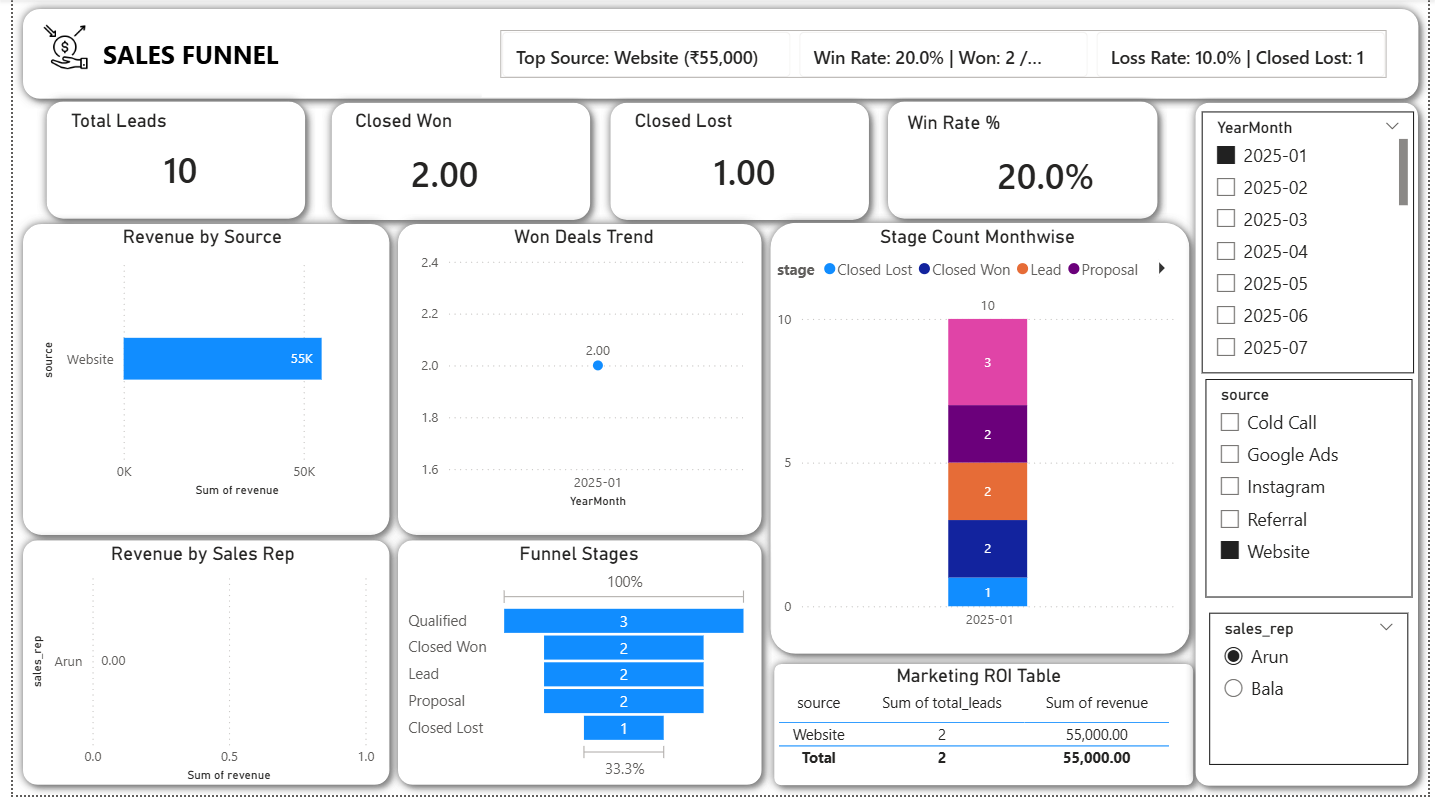

The dashboard page shown, as its layout file describes it:
{"tool":"powerbi","page":{"name":"Page 2","canvas":[1280,720],"ordinal":1},"visuals":[{"type":"shape","box":[0,0,1280.2,99.2],"z":0},{"type":"shape","box":[68.4,22.8,183.8,53.2],"z":1000},{"type":"image","box":[0,22.8,95,41.8],"z":2000},{"type":"shape","box":[21.3,84,251.8,124],"z":3000},{"type":"shape","box":[279.4,85,251.8,124],"z":4000},{"type":"shape","box":[531.1,85,251.8,124],"z":5000},{"type":"shape","box":[782.9,84,261.8,124],"z":6000},{"type":"textbox","title":"Total Leads","box":[42.6,99,105.2,25.1],"z":7000},{"type":"textbox","title":"Closed Won","box":[300.6,100,105.2,25.1],"z":8000},{"type":"textbox","title":"Closed Lost","box":[553.7,100,105.2,25.1],"z":9000},{"type":"textbox","title":"Win Rate %","box":[798,102,105.2,25.1],"z":10000},{"type":"cardVisual","fields":{"Data":["DimDate.Total Leads"]},"box":[95.6,112.7,111.5,82.1],"z":11000},{"type":"cardVisual","fields":{"Data":["DimDate.Closed Won"]},"box":[319.8,116,169.1,83.3],"z":12000},{"type":"cardVisual","fields":{"Data":["DimDate.Closed Lost"]},"box":[593.8,115,166,81],"z":13000},{"type":"cardVisual","fields":{"Data":["DimDate.Win Rate %"]},"box":[850.2,116.4,160.5,85.8],"z":14000},{"type":"shape","box":[0,195,349.5,299.4],"z":15000},{"type":"barChart","title":"Revenue by Source","fields":{"Category":["bi_suite vw_revenue_by_source.source"],"Y":["bi_suite vw_revenue_by_source.revenue"]},"box":[21.3,204.2,299.4,250.5],"z":16000},{"type":"shape","box":[339.5,195,347,299.4],"z":17000},{"type":"lineChart","title":"Won Deals Trend","fields":{"Category":["DimMonth.YearMonth"],"Y":["bi_suite vw_sales_conversion_summary.closed_won"]},"box":[364.5,204.2,304.4,260.6],"z":18000},{"type":"shape","box":[676.3,193.6,396.9,408],"z":19000},{"type":"columnChart","title":"Stage Count Monthwise","fields":{"Category":["DimMonth.YearMonth"],"Series":["bi_suite vw_sales_funnel_stage_counts.stage"],"Y":["bi_suite vw_sales_funnel_stage_counts.lead_count"]},"box":[686.5,204.2,372.1,374.6],"z":20000},{"type":"shape","box":[0,481,349.5,239.3],"z":21000},{"type":"barChart","title":"Revenue by Sales Rep","fields":{"Category":["bi_suite vw_sales_rep_performance.sales_rep"],"Y":["bi_suite vw_sales_rep_performance.revenue"]},"box":[11.3,492.3,320.7,221.7],"z":22000},{"type":"shape","box":[339.5,481,347,239.3],"z":23000},{"type":"funnel","title":"Funnel Stages","fields":{"Category":["bi_suite vw_sales_funnel_stage_counts.stage"],"Y":["bi_suite vw_sales_funnel_stage_counts.lead_count"]},"box":[353.3,492.3,318.2,219.2],"z":24000},{"type":"shape","box":[679,592.5,397.1,127.8],"z":25000},{"type":"tableEx","title":"Marketing ROI Table","fields":{"Values":["bi_suite vw_revenue_by_source.source","bi_suite vw_revenue_by_source.total_leads","bi_suite vw_revenue_by_source.revenue"]},"box":[686.5,601.3,374.6,109],"z":26000},{"type":"shape","box":[1061,84.5,219.3,635.8],"z":27000},{"type":"slicer","fields":{"Values":["DimMonth.YearMonth"]},"box":[1075.7,101.7,192.3,236.4],"z":28000},{"type":"slicer","fields":{"Values":["bi_suite vw_revenue_by_source.source"]},"box":[1078.1,344.3,187.4,197.2],"z":29000},{"type":"slicer","fields":{"Values":["bi_suite vw_sales_rep_performance.sales_rep"]},"box":[1081.8,555,180.1,137.2],"z":30000},{"type":"cardVisual","fields":{"Data":["_Measures.Sales Insight 1","_Measures.Sales Insight 2","_Measures.Sales Insight 3"]},"box":[424.6,11.4,837.7,77.3],"z":31000}]}

Visuals, with their boxes in screenshot pixels (x1, y1, x2, y2), scaled from the page's 1280x720 canvas onto the 1435x801 screenshot:
shape: 0,0,1434,110
shape: 77,25,283,85
image: 0,25,107,72
shape: 24,93,306,231
shape: 313,95,596,233
shape: 595,95,878,233
shape: 878,93,1171,231
"Total Leads" textbox: 48,110,166,138
"Closed Won" textbox: 337,111,455,139
"Closed Lost" textbox: 621,111,739,139
"Win Rate %" textbox: 895,113,1013,141
cardVisual - DimDate.Total Leads: 107,125,232,217
cardVisual - DimDate.Closed Won: 359,129,548,222
cardVisual - DimDate.Closed Lost: 666,128,852,218
cardVisual - DimDate.Win Rate %: 953,129,1133,225
shape: 0,217,392,550
"Revenue by Source" barChart: 24,227,360,506
shape: 381,217,770,550
"Won Deals Trend" lineChart: 409,227,750,517
shape: 758,215,1203,669
"Stage Count Monthwise" columnChart: 770,227,1187,644
shape: 0,535,392,800
"Revenue by Sales Rep" barChart: 13,548,372,794
shape: 381,535,770,800
"Funnel Stages" funnel: 396,548,753,792
shape: 761,659,1206,800
"Marketing ROI Table" tableEx: 770,669,1190,790
shape: 1189,94,1434,800
slicer - DimMonth.YearMonth: 1206,113,1422,376
slicer - bi_suite vw_revenue_by_source.source: 1209,383,1419,602
slicer - bi_suite vw_sales_rep_performance.sales_rep: 1213,617,1415,770
cardVisual - _Measures.Sales Insight 1 x _Measures.Sales Insight 2: 476,13,1415,99
